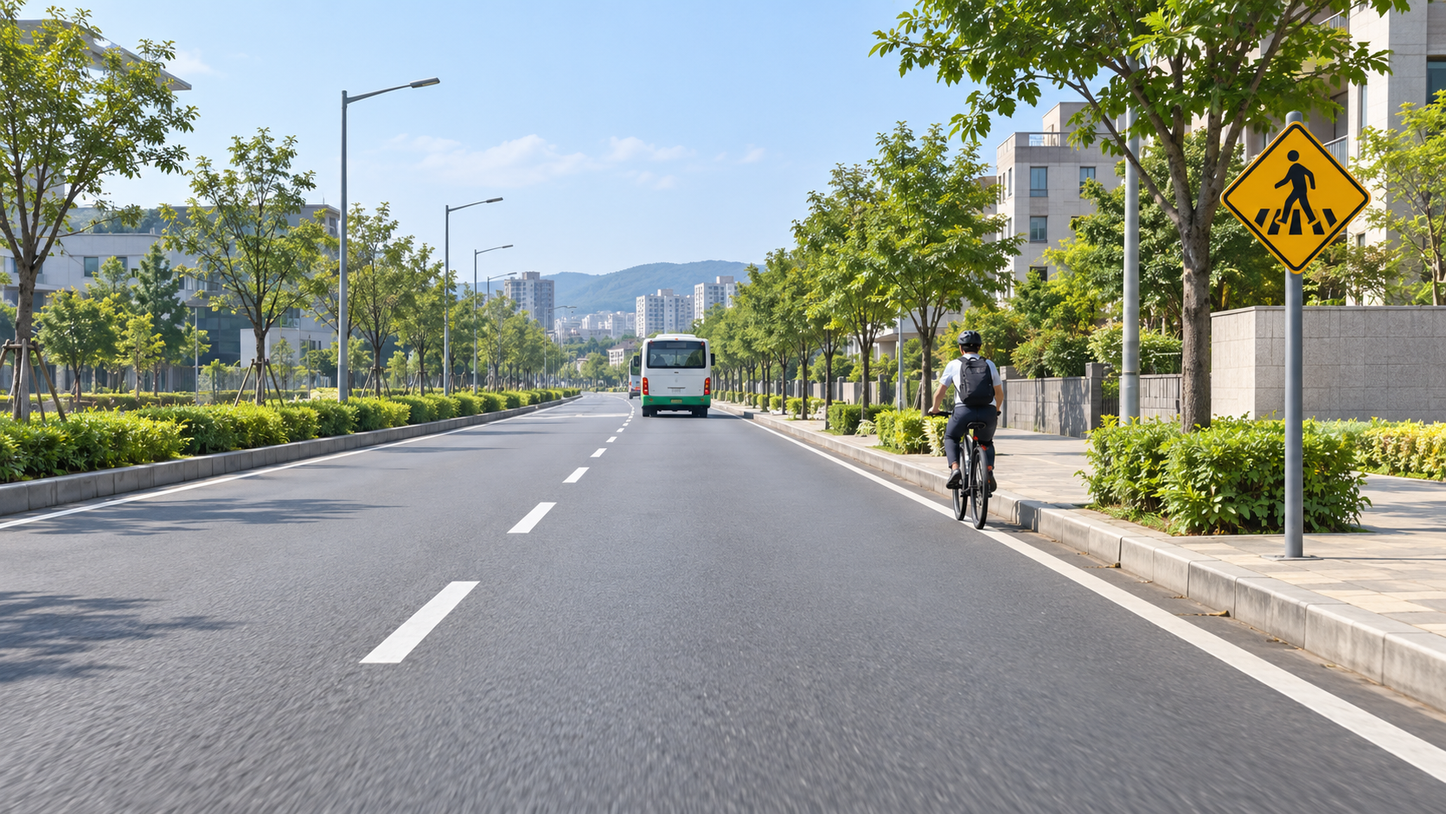bicycle: (938, 381, 1004, 525)
bus: (639, 331, 719, 420)
crossing_warning_sign: (1217, 108, 1374, 277)
person: (932, 330, 1008, 503)
